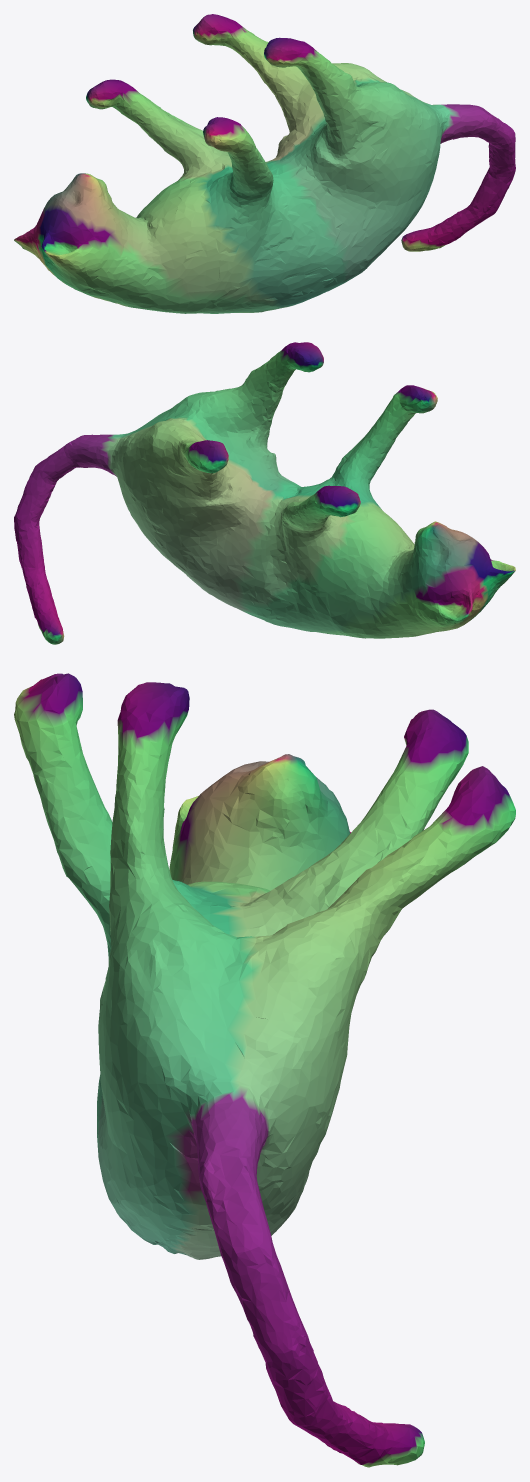
Rendered from cat-12.off.obj.
3 renders of one model, top to bottom at view 1: azimuth 30°, elevation 25°; view 2: azimuth 150°, elevation 25°; view 3: azimuth 270°, elevation 25°, orthographic. The views are drawn at different scales.
Bounding box in the file's own units: 1.69 × 1 × 0.7727.
